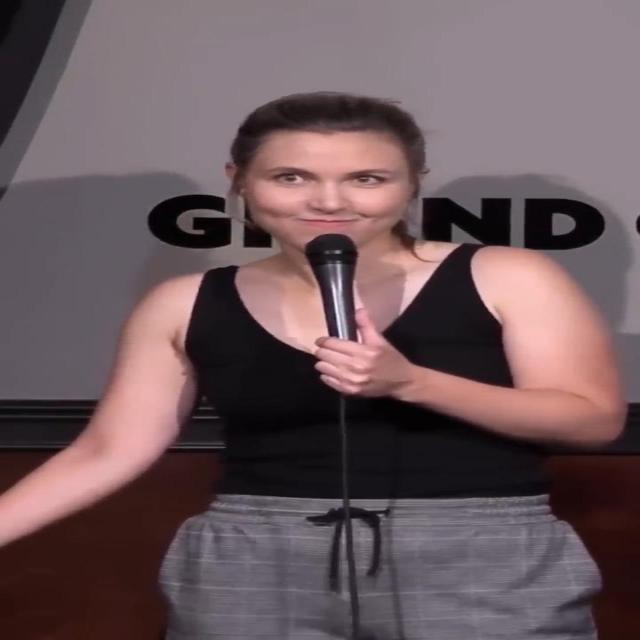NO-Mask: (228, 129, 427, 257)
